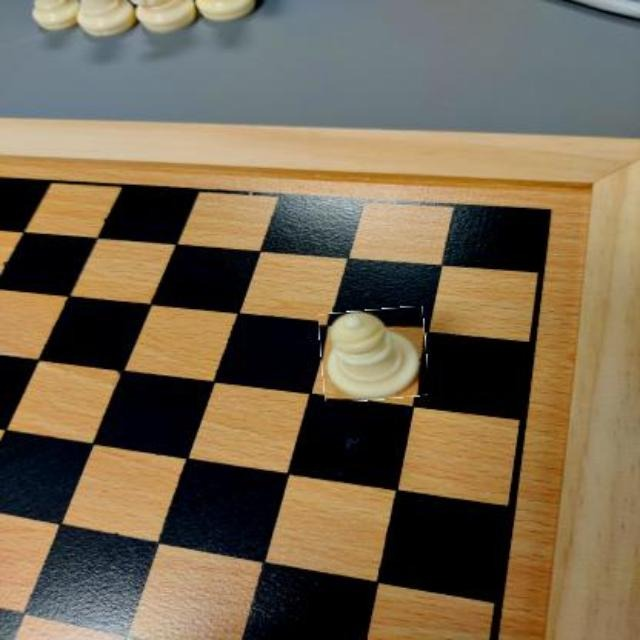white-bishop: (320, 308, 427, 401)
